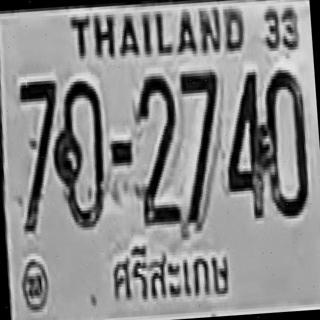N00: (50, 77, 108, 229), (258, 66, 311, 217)
N02: (131, 72, 182, 223)
N04: (219, 68, 271, 217)
N07: (15, 77, 66, 234), (175, 66, 225, 226)
P63: (108, 233, 234, 308)
